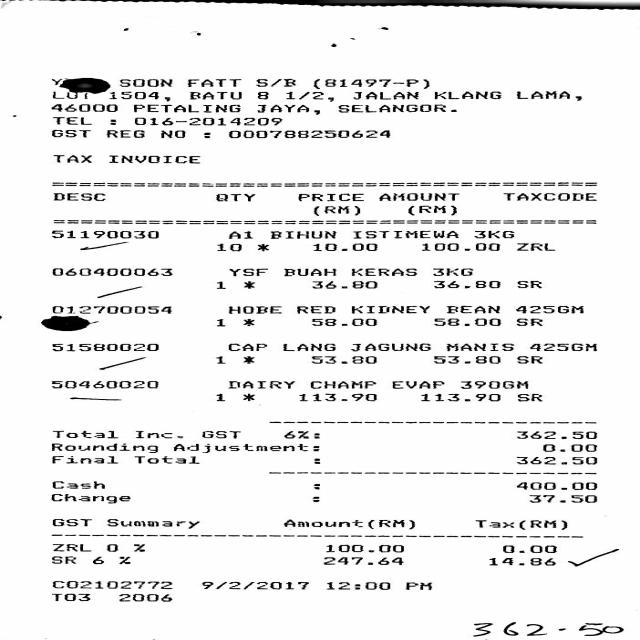text: (172, 443, 306, 452), (132, 117, 280, 125), (313, 78, 427, 88), (228, 130, 387, 137), (49, 305, 170, 313), (49, 443, 156, 452), (50, 267, 170, 275), (50, 580, 170, 588), (336, 104, 454, 112), (475, 519, 566, 529), (49, 230, 156, 238), (49, 343, 156, 351), (49, 380, 156, 388), (200, 580, 307, 588), (133, 104, 239, 112), (351, 230, 457, 238), (105, 519, 198, 528), (500, 192, 596, 200), (108, 154, 198, 162), (50, 494, 129, 503), (376, 192, 456, 200), (350, 343, 430, 351), (418, 393, 498, 401), (419, 242, 498, 250), (350, 305, 429, 313), (106, 91, 168, 101), (324, 544, 401, 552), (516, 91, 580, 100), (254, 105, 318, 114), (515, 431, 595, 438), (515, 457, 595, 464), (515, 482, 595, 489), (322, 557, 402, 564), (296, 393, 374, 400), (514, 305, 582, 313), (431, 280, 498, 288), (445, 343, 512, 351), (527, 343, 594, 351), (431, 356, 498, 364), (49, 455, 116, 463), (527, 494, 594, 502), (487, 557, 554, 565), (351, 91, 417, 99), (49, 103, 115, 111), (268, 230, 334, 238), (349, 267, 415, 275), (283, 519, 358, 526), (310, 280, 375, 288), (312, 242, 376, 250), (298, 193, 361, 201), (311, 355, 374, 363), (406, 205, 454, 215), (432, 91, 500, 98), (432, 318, 500, 325), (459, 381, 527, 388), (284, 90, 331, 100), (366, 519, 413, 529), (51, 430, 117, 437), (310, 318, 375, 325), (228, 381, 293, 388), (310, 381, 375, 388), (134, 456, 198, 463), (324, 582, 388, 589), (187, 91, 240, 99), (50, 480, 103, 488), (51, 192, 103, 200), (118, 593, 170, 601), (313, 206, 357, 215), (444, 305, 499, 312), (133, 430, 181, 438), (541, 444, 595, 451), (501, 545, 555, 552), (187, 79, 240, 86), (227, 306, 280, 313), (390, 381, 443, 388), (118, 79, 170, 86), (282, 268, 334, 275), (282, 343, 332, 350), (254, 78, 294, 86), (50, 129, 90, 137), (472, 230, 512, 238), (432, 267, 472, 275), (514, 242, 553, 250), (294, 305, 333, 313), (50, 518, 89, 526), (50, 543, 89, 551), (105, 129, 143, 137), (52, 154, 90, 162), (200, 430, 238, 438), (214, 193, 254, 200), (50, 117, 89, 124), (50, 593, 89, 600), (284, 430, 318, 438), (227, 268, 265, 275), (227, 343, 265, 350), (50, 91, 85, 98), (215, 244, 241, 252), (515, 355, 541, 363), (515, 393, 541, 401), (227, 230, 251, 238), (516, 280, 540, 288), (403, 582, 430, 589), (515, 318, 541, 325), (49, 556, 75, 563), (159, 130, 184, 137), (116, 556, 129, 564), (49, 78, 65, 84), (215, 280, 225, 289), (255, 91, 266, 99), (213, 356, 224, 364), (91, 556, 102, 564), (104, 544, 115, 551), (214, 318, 223, 326), (214, 393, 223, 401), (132, 544, 142, 551)
